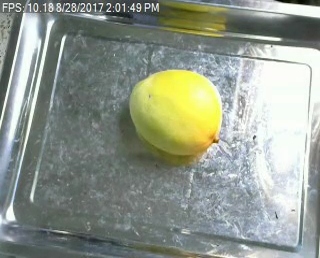Mango: (128, 67, 224, 156)
